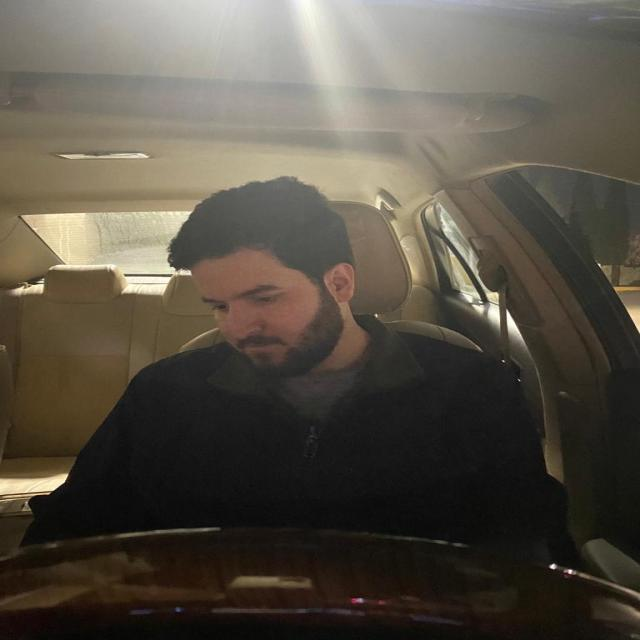person: (165, 173, 364, 382)
